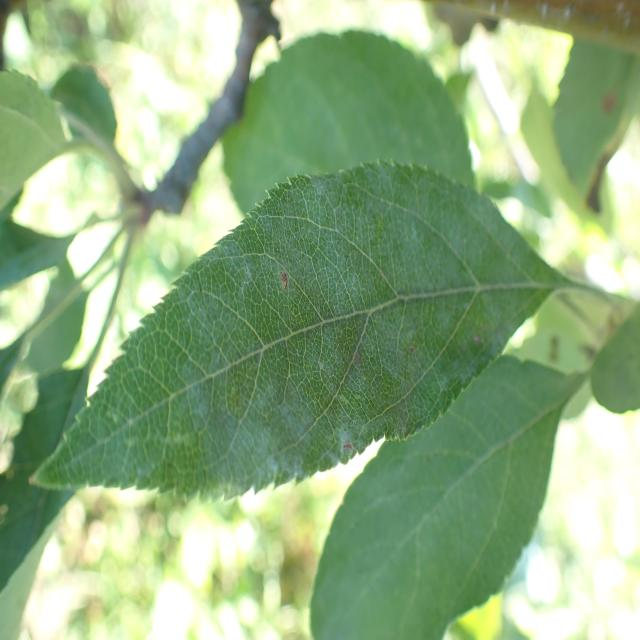Powdery_mildew: (88, 157, 530, 500)
